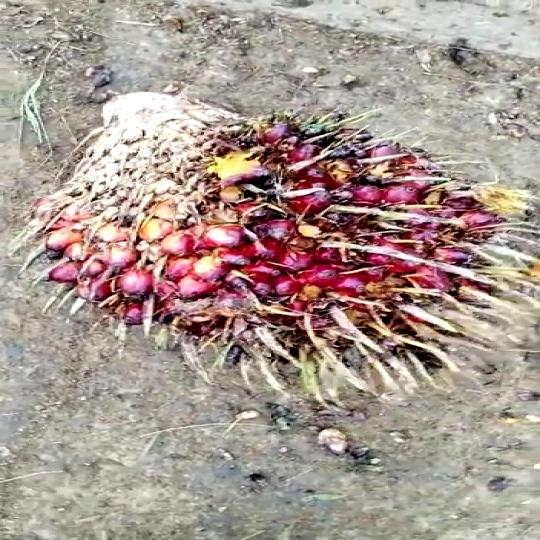masak: (32, 89, 523, 390)
